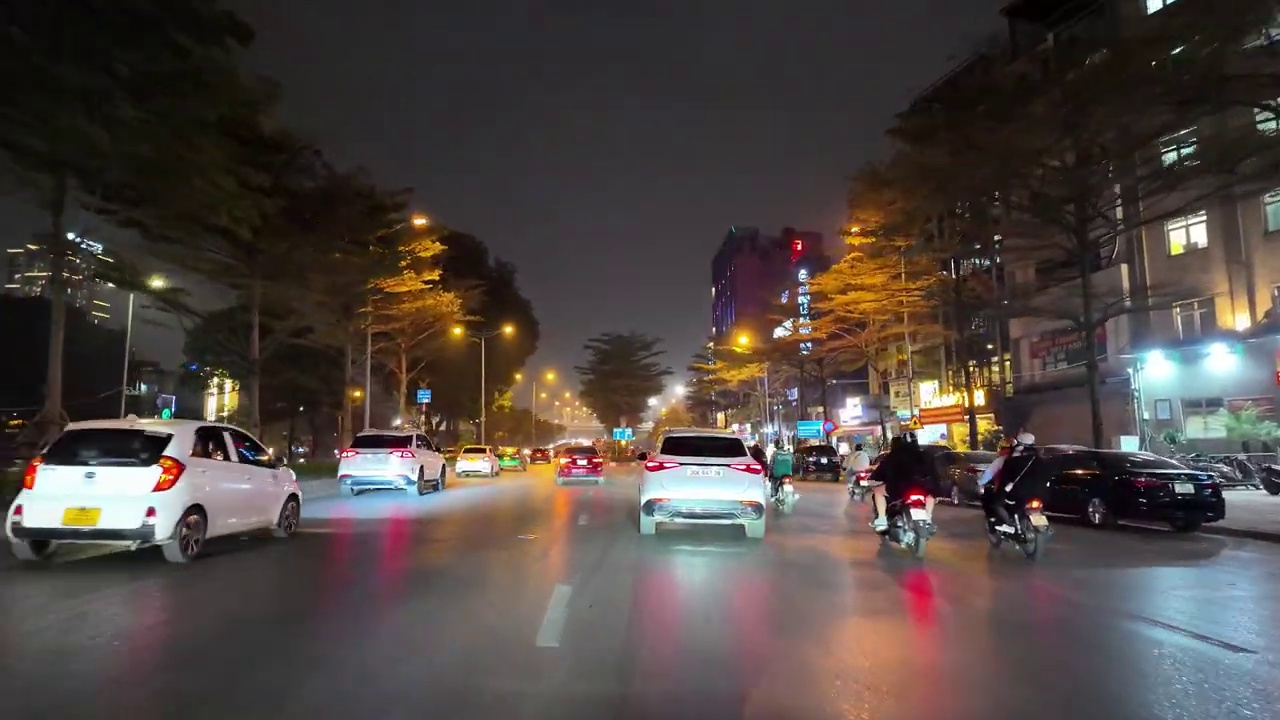acesa: (409, 212, 436, 237), (145, 272, 171, 296), (497, 320, 521, 345)
